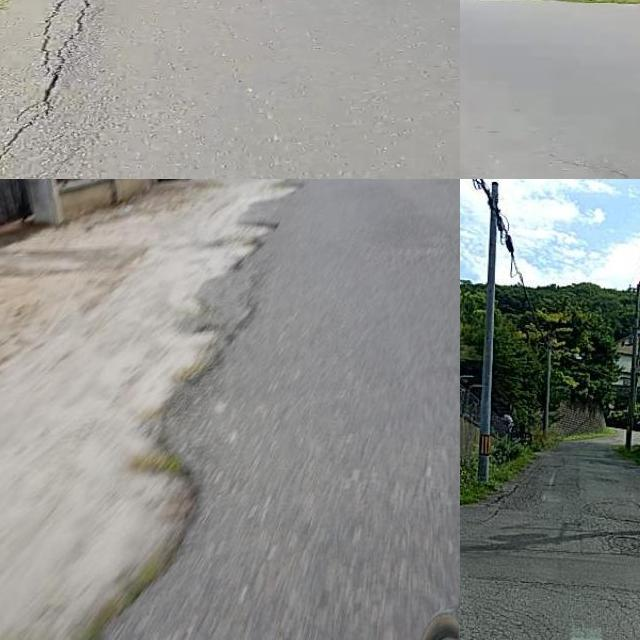Pinggir: (13, 192, 310, 640), (0, 0, 116, 142)
